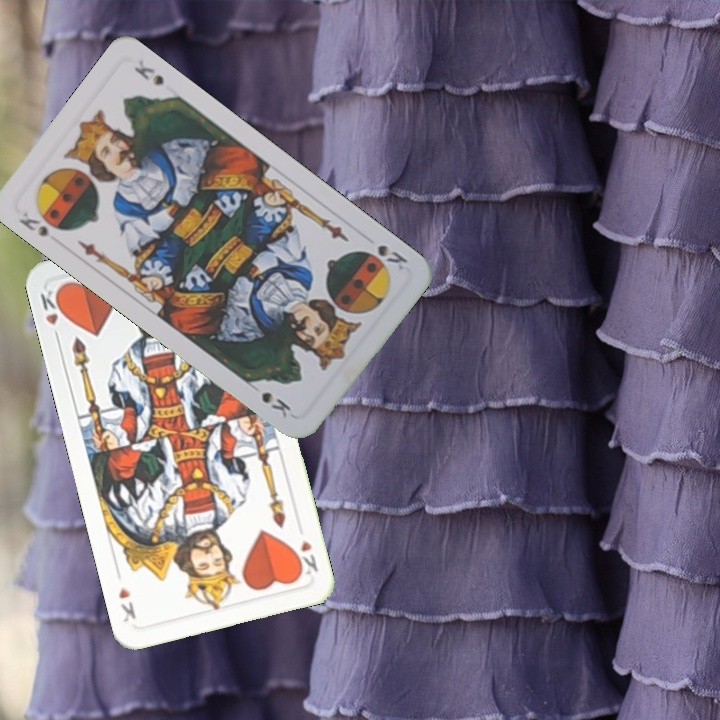HK: (36, 283, 68, 344), (290, 536, 321, 579)
SK: (14, 206, 68, 240), (373, 240, 411, 273)
